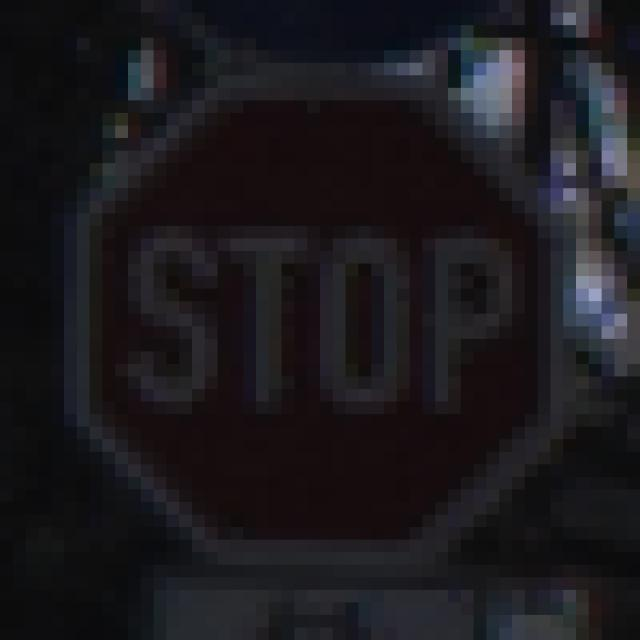STOP: (65, 64, 577, 578)
